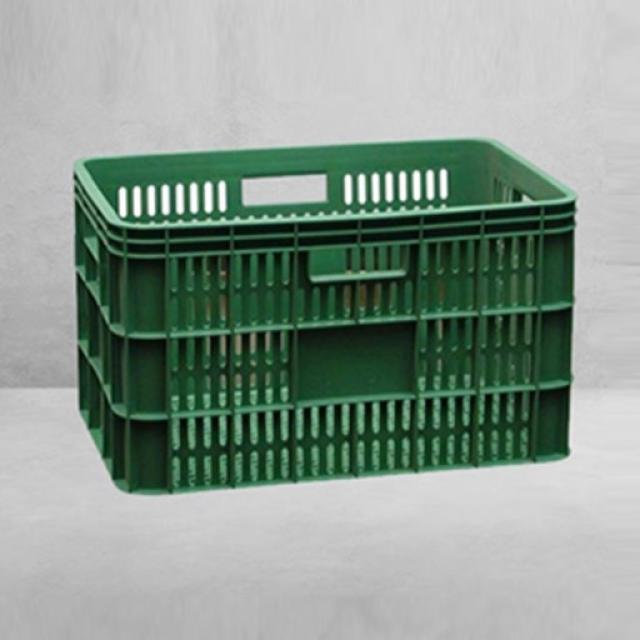basket: (71, 136, 586, 496)
